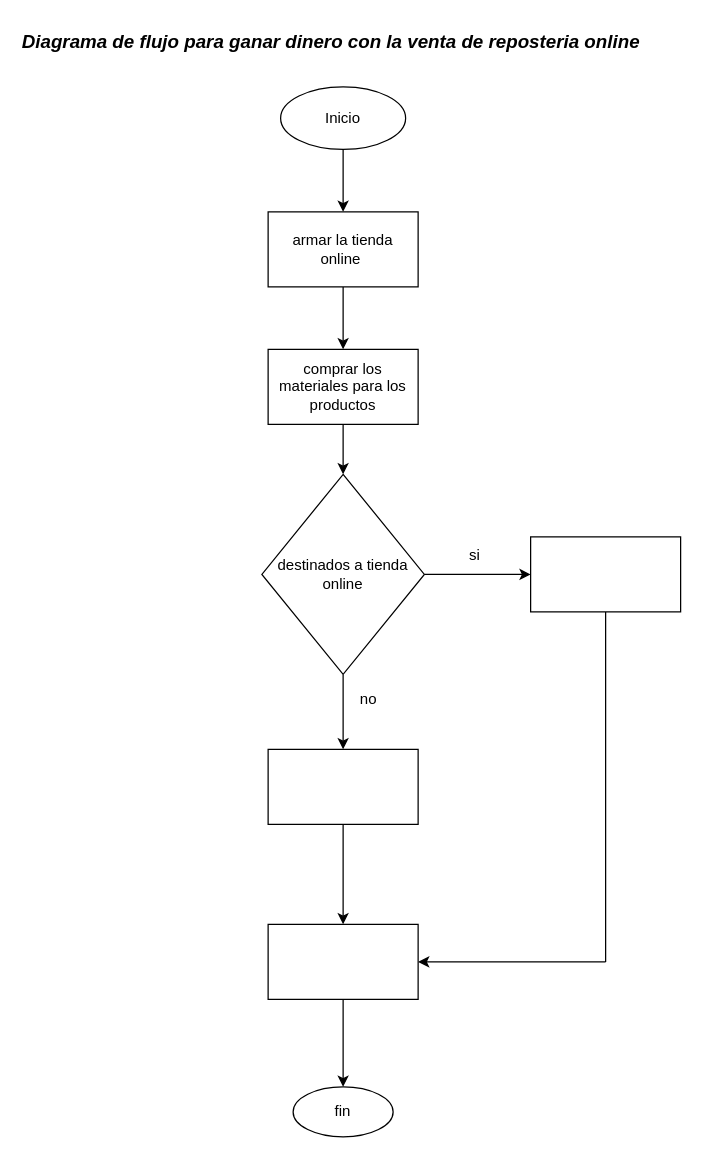
Image size: 703x1159. Some labels were removed from this diagram. The shapes that lost their labels are listed below. From the top down, each one's centre as x and y in pixels, then its label:
At pixel 605 574: "hacer el catalogo online".
At pixel 342 786: "almacenarlos en inventario".
At pixel 342 961: "venta".
